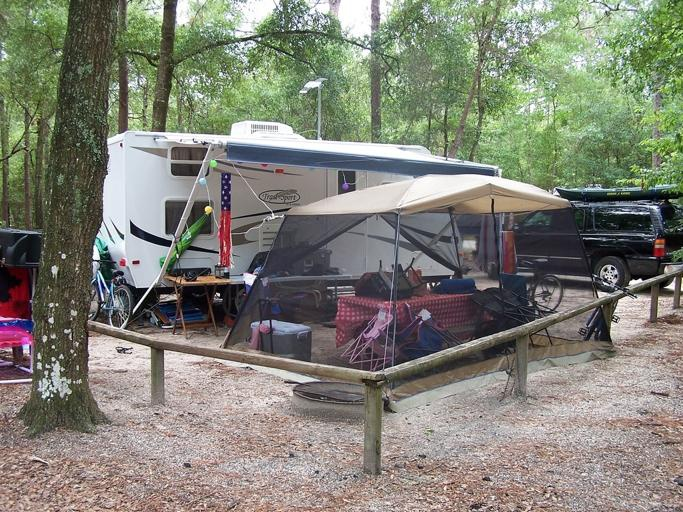non-vehicle: (577, 273, 637, 340), (89, 259, 133, 328), (519, 257, 563, 313)
